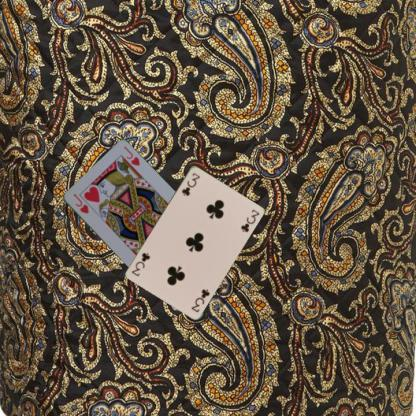3c: (188, 286, 211, 313), (179, 170, 201, 197)
Jh: (70, 191, 90, 215)
